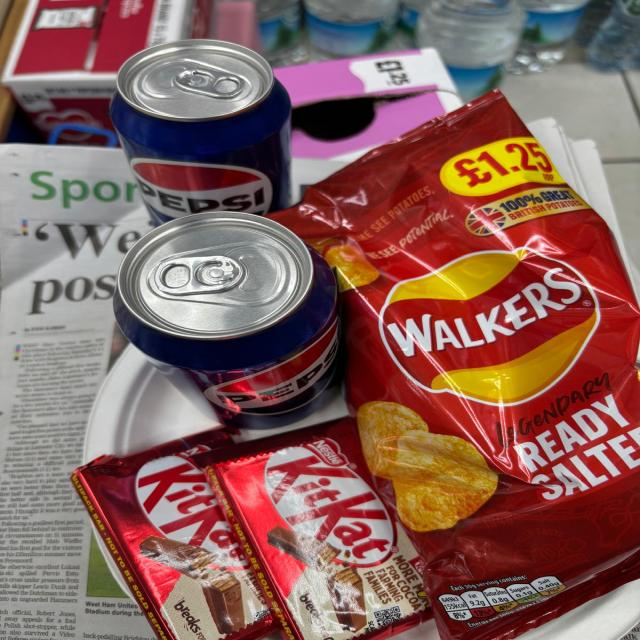crisp: (309, 134, 640, 636)
kitkat: (59, 404, 282, 640), (232, 430, 437, 638)
pepsi: (123, 206, 349, 430), (109, 34, 283, 222)
